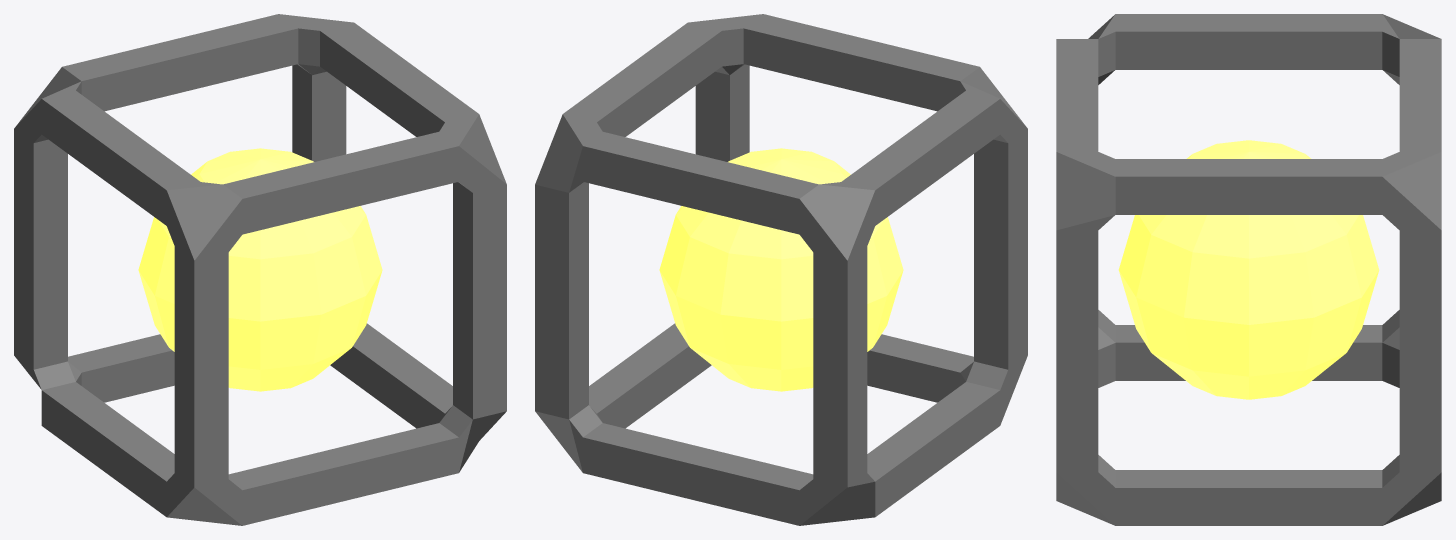
The model's file is life_cube.glb.
The picture shows the model from 3 angles, left to right: view 1: azimuth 30°, elevation 25°; view 2: azimuth 150°, elevation 25°; view 3: azimuth 270°, elevation 25°; orthographic projection. The views are drawn at different scales.
Parts seen in each view (by area): view 1: cube, life; view 2: cube, life; view 3: cube, life.
Part boxes in pixels (box(x1,y1,x2,y2)): cube: box(14, 14, 506, 525); life: box(138, 148, 382, 391); cube: box(535, 14, 1027, 525); life: box(659, 148, 903, 391); cube: box(1056, 14, 1441, 525); life: box(1118, 140, 1379, 399).
Size of the model in its own units: 0.3645 by 0.3645 by 0.3645.
